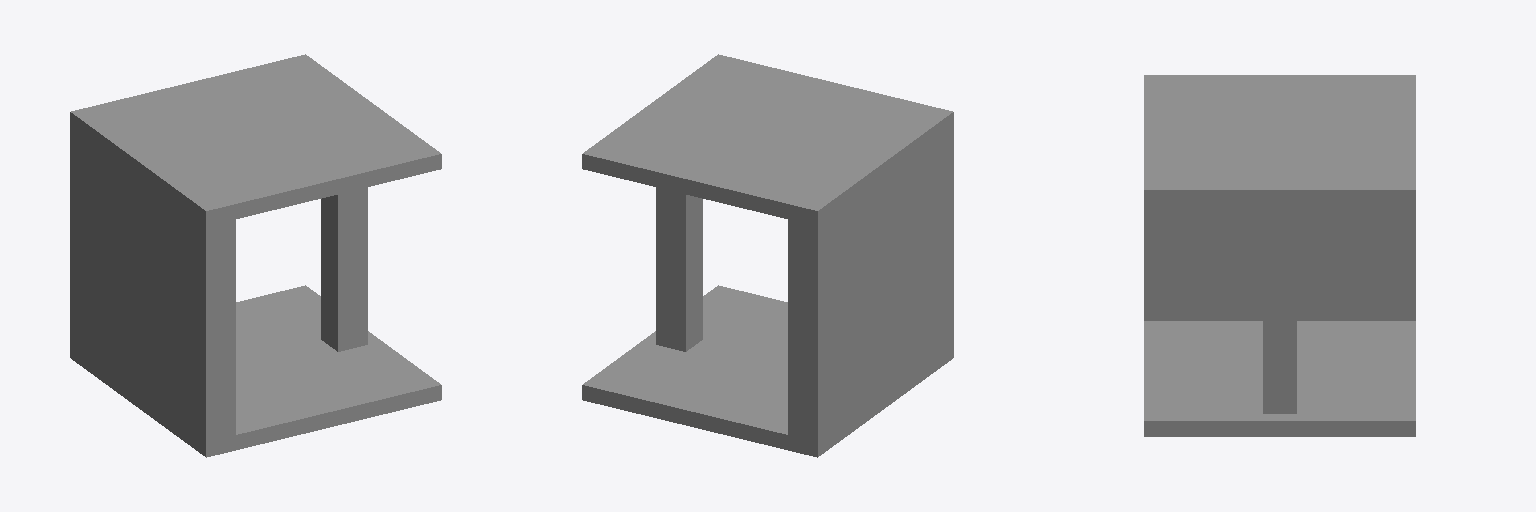
Rendered from woodcutter.obj.
The picture shows the model from 3 angles: view 1: azimuth 30°, elevation 25°; view 2: azimuth 150°, elevation 25°; view 3: azimuth 270°, elevation 25°; orthographic projection.
Visible parts, largest first — view 1: Cube; view 2: Cube; view 3: Cube.
Boxes of the visible parts, x1,y1,x2,y2 form: Cube: [70, 54, 441, 457]; Cube: [582, 54, 953, 457]; Cube: [1144, 75, 1415, 436].
Size of the model in its own units: 1 by 1 by 1.